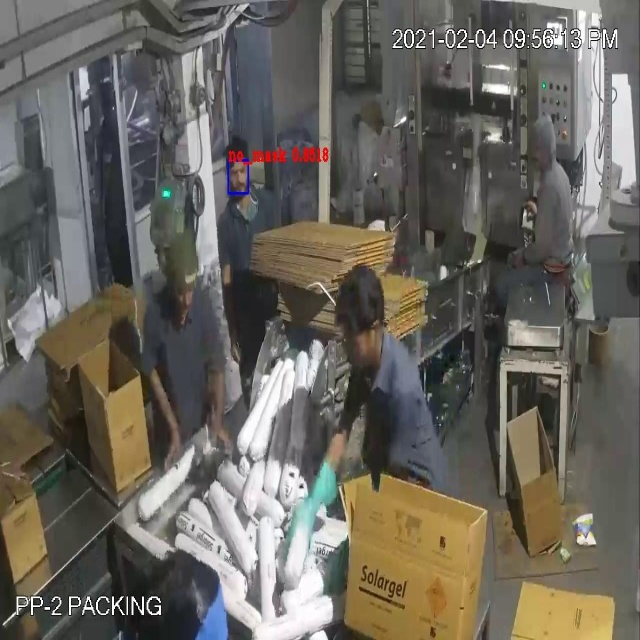Guantes: (277, 431, 341, 574)
Sin_guantes: (142, 342, 185, 481), (217, 254, 257, 387), (199, 335, 229, 468)
